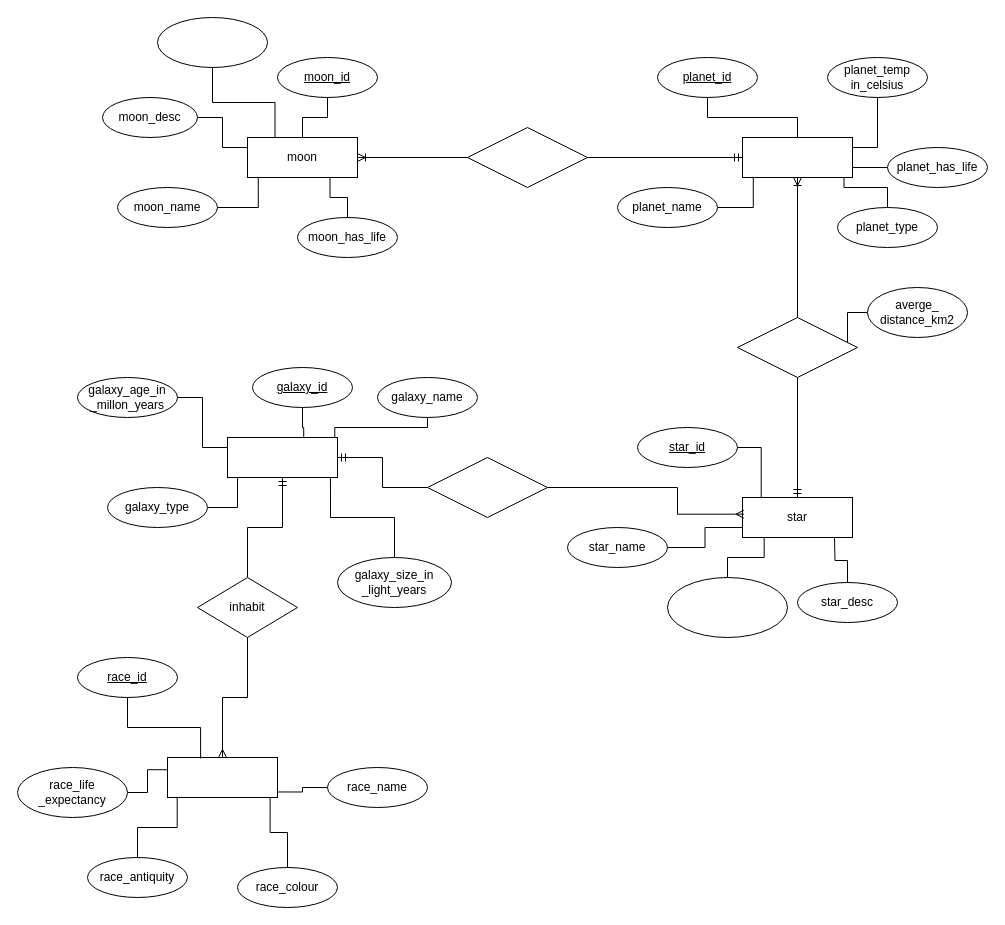
Image size: 1005x925. Some labels were removed from this diagram. Each missing label, with the centre of its shape:
compose: (x=487, y=487)
galaxy: (x=282, y=457)
moon orbit planets: (x=527, y=157)
moon_surface _km2: (x=212, y=42)
planet: (x=797, y=157)
planet orbit star: (x=797, y=347)
race: (x=222, y=777)
star_most_ abundant_element: (x=727, y=607)
